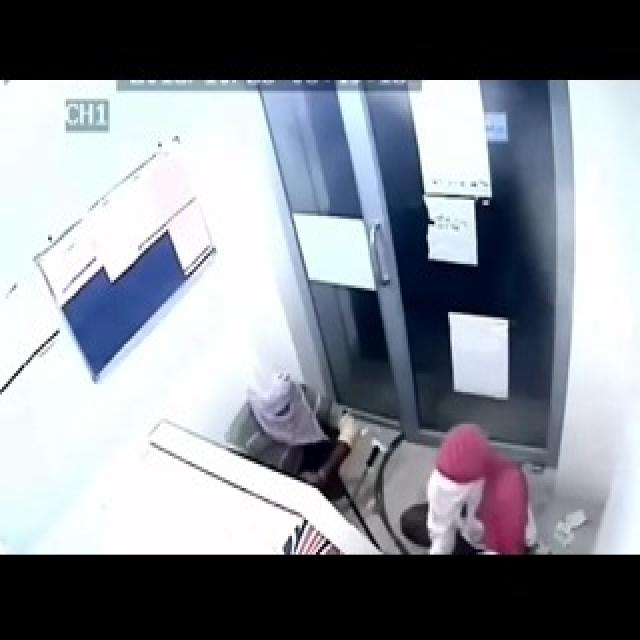thief: (230, 372, 539, 552)
